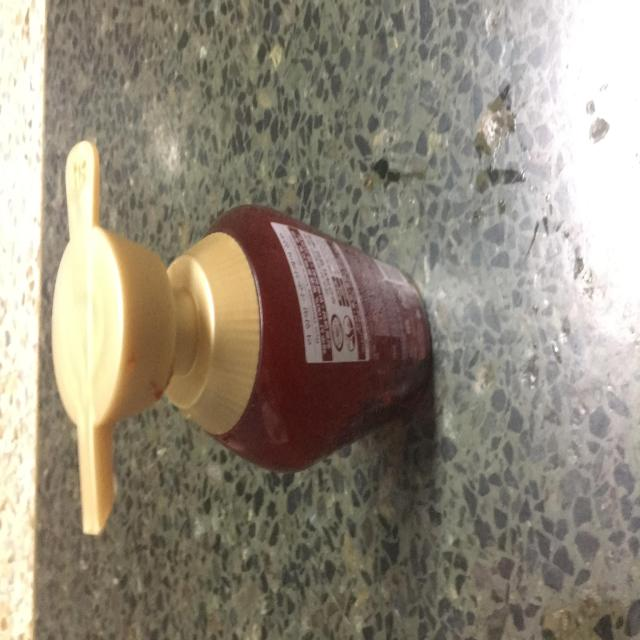bottle: (49, 131, 434, 546)
